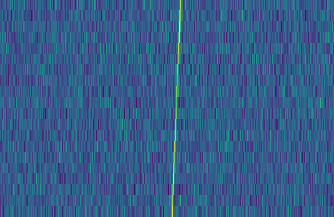signal: (167, 0, 184, 217)
